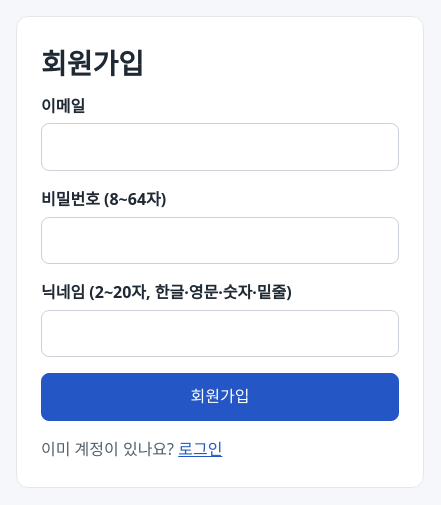
회원가입 › 성공하면 로그인 화면으로 이동해 완료 안내를 보여준다
The width and height of the screenshot is (441, 505).
Expected: the heading "회원가입" is shown, [41,44,144,82]
Type "user1@example.com" into the field labelled "이메일".
click(220, 147); type("user1@example.com")  # box [41,123,399,171]
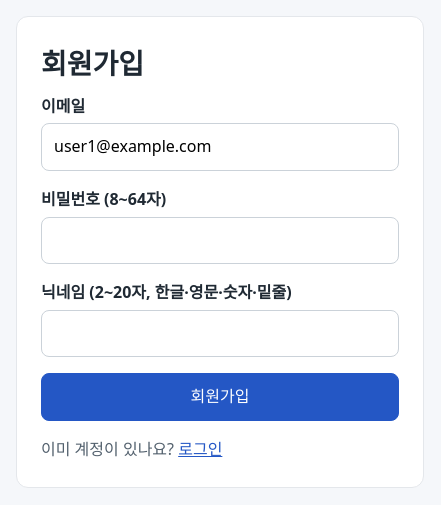
Type "password123" into the password field labelled "비밀번호 (8~64자)".
click(220, 240); type("password123")  # box [41,217,399,264]
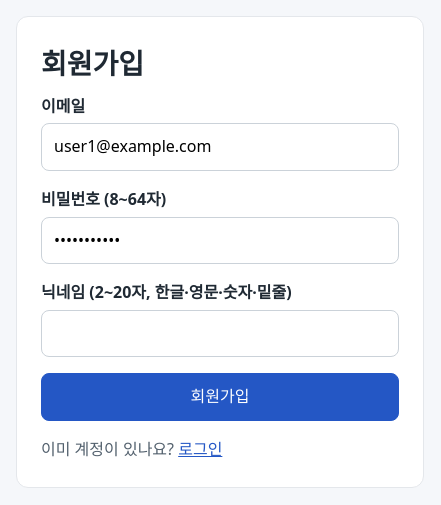
Type "user_1" into the field labelled "닉네임 (2~20자, 한글·영문·숫자·밑줄)".
click(220, 334); type("user_1")  # box [41,310,399,357]
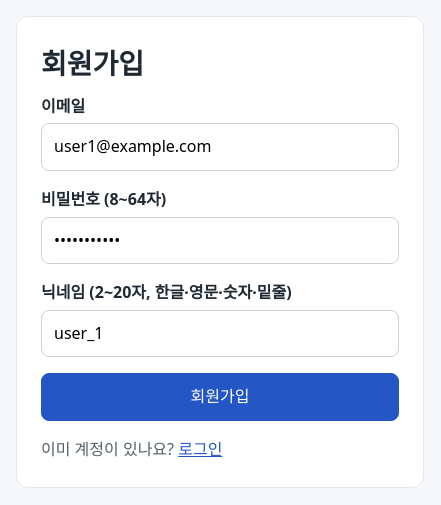
Click the button "회원가입".
click(220, 397)  # box [41,373,399,421]
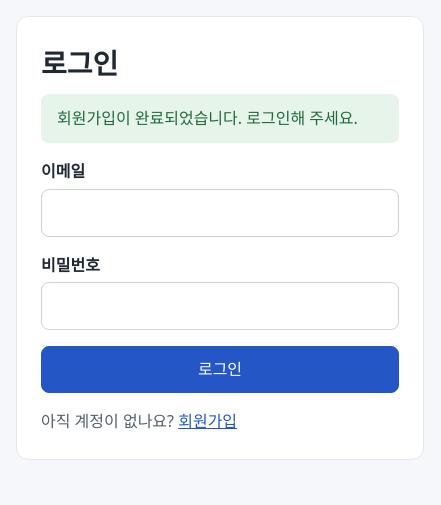
Expected: the heading "로그인" is shown, [41,44,118,82]
Expected: the text "회원가입이 완료되었습니다. 로그인해 주세요." is shown, [41,94,399,143]
